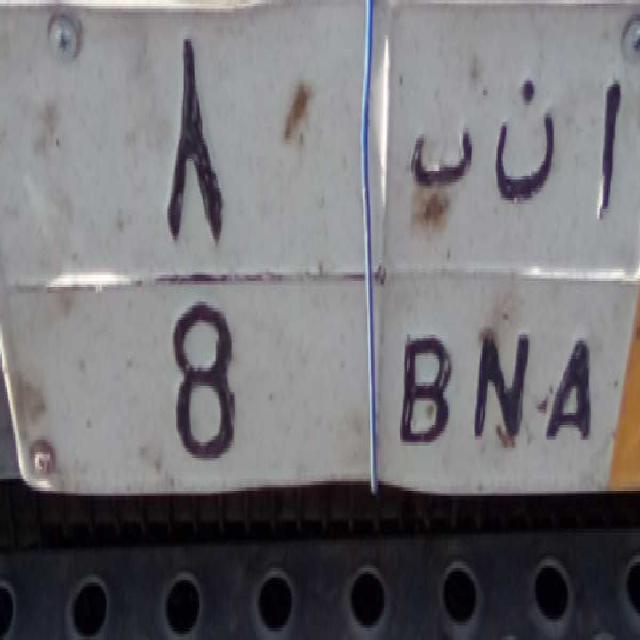license_plate: (0, 252, 625, 494)
